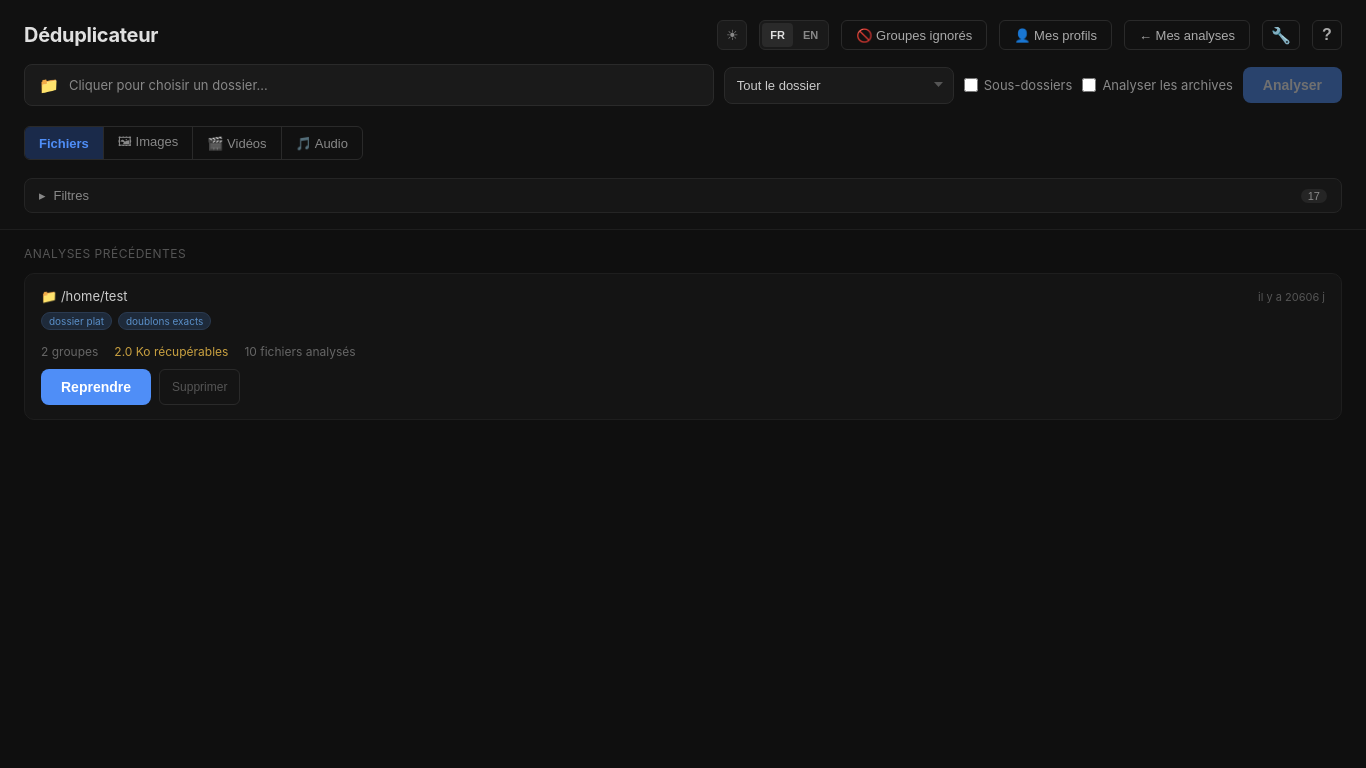
Test: A - bouton retour Mes analyses › fait disparaitre le summary de l'UI après clic
The width and height of the screenshot is (1366, 768).
Click the button "Reprendre". click: (96, 387)
box: [41,369,151,405]
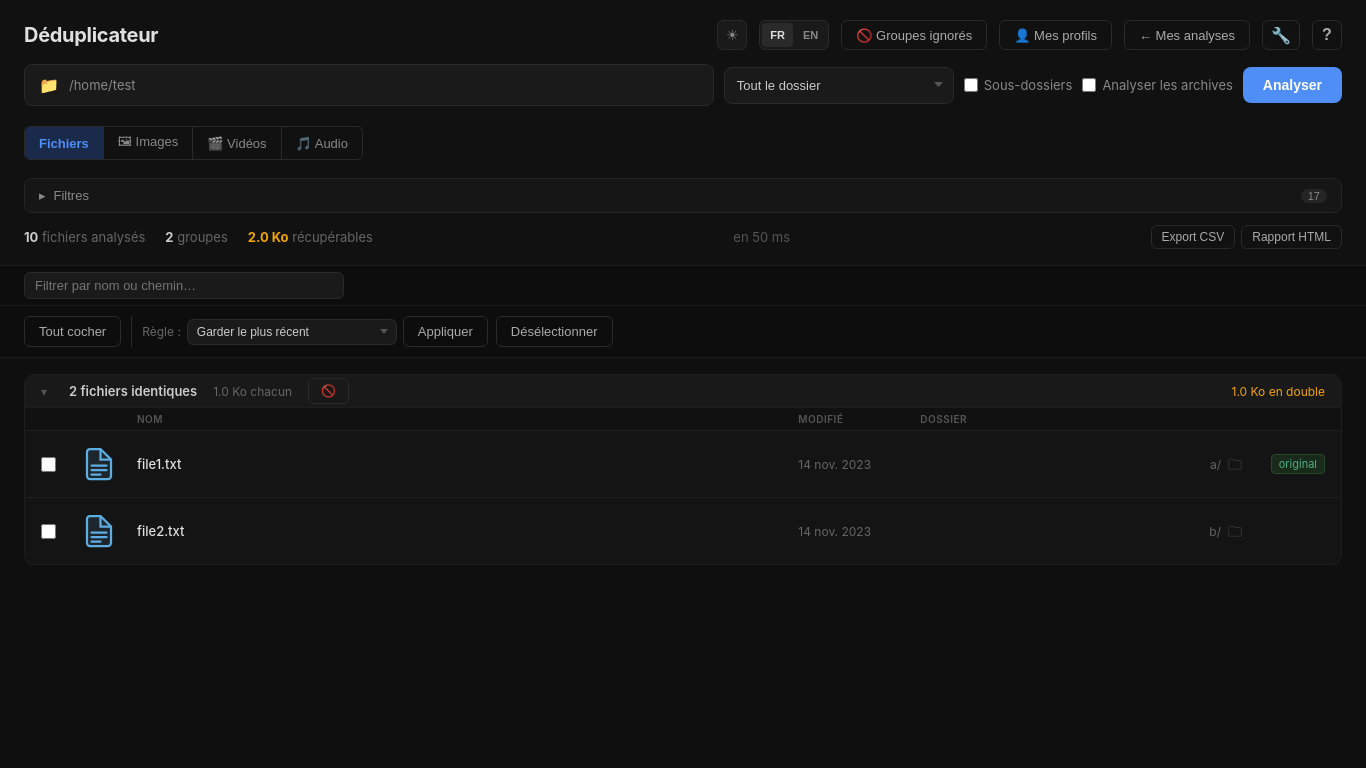
Now the element with test id "stats-row" is shown, box [24,225,1342,249]
Click the button "← Mes analyses". click: (1187, 35)
box: [1124,20,1250,50]
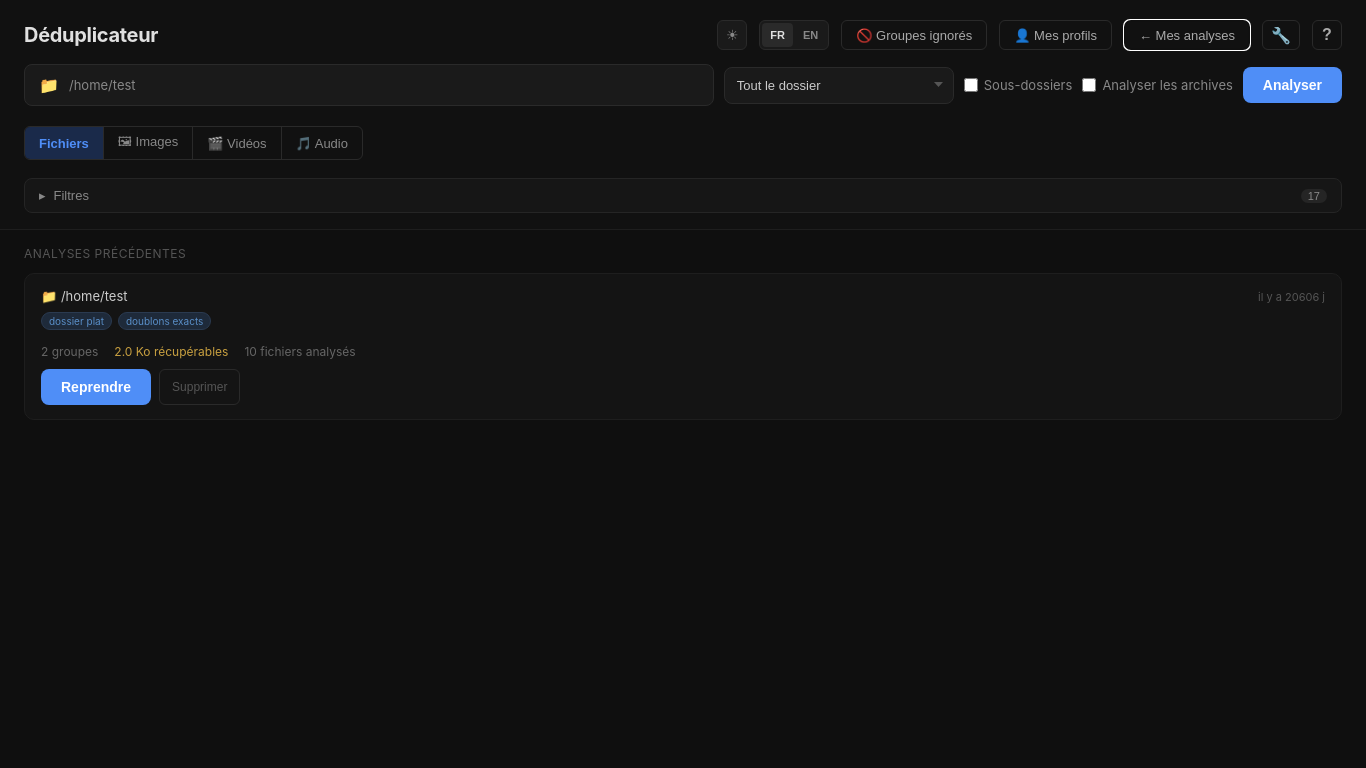
Now the element with test id "stats-row" is gone
